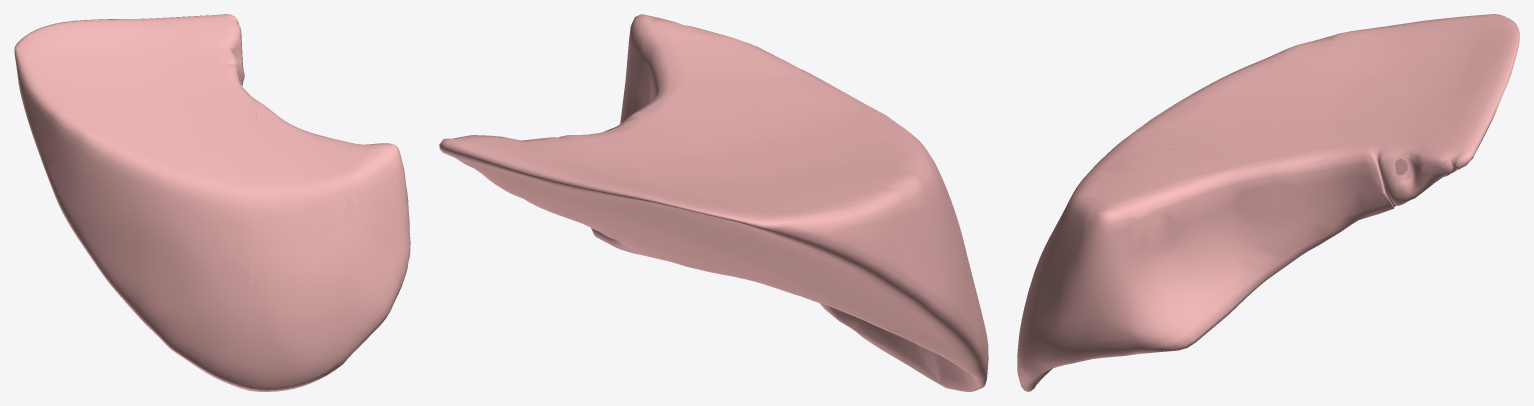
The model's file is visceras-middle-lobe-of-right-lung.glb.
The picture shows the model from 3 angles, left to right: view 1: azimuth 30°, elevation 25°; view 2: azimuth 150°, elevation 25°; view 3: azimuth 270°, elevation 25°; orthographic projection. The views are drawn at different scales.
Parts seen in each view (by area): view 1: Middle lobe of right lung; view 2: Middle lobe of right lung; view 3: Middle lobe of right lung.
Part boxes in pixels (x1,y1,x2,y2): Middle lobe of right lung: (14, 14, 410, 391); Middle lobe of right lung: (439, 14, 988, 391); Middle lobe of right lung: (1017, 14, 1519, 391).
Size of the model in its own units: 0.1178 by 0.1036 by 0.15.
